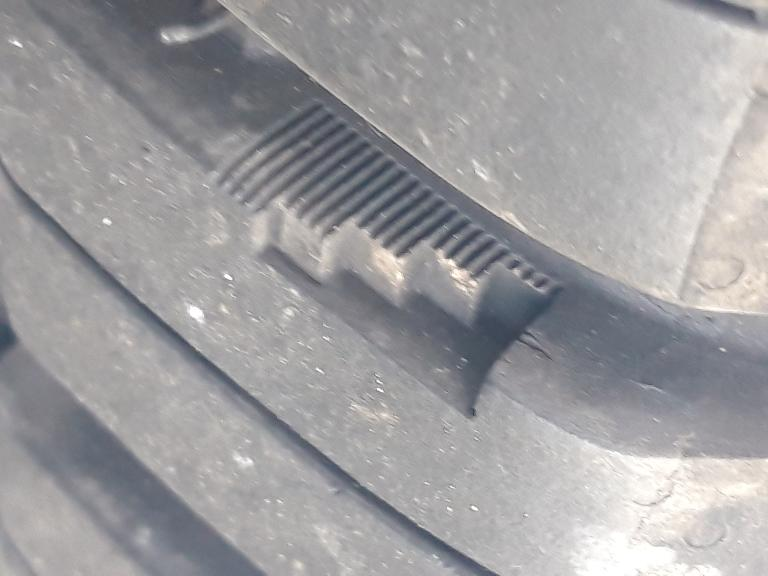temoin:90: (194, 83, 582, 442)
